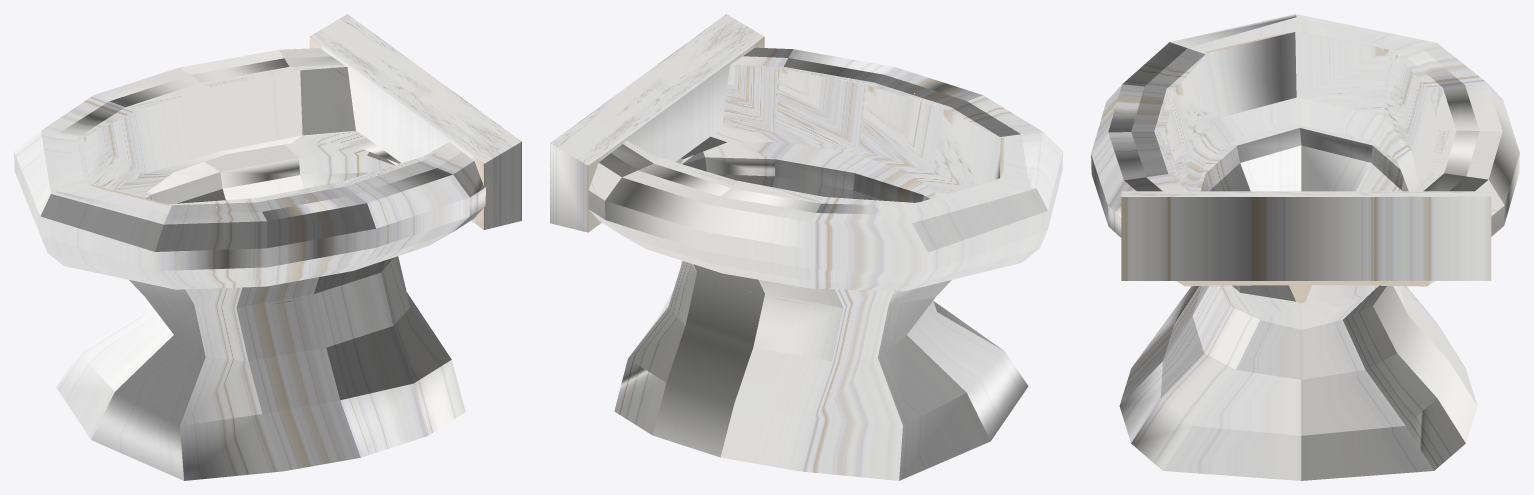
The model's file is gabinetto.fbx.
3 renders of one model, left to right at view 1: azimuth 30°, elevation 25°; view 2: azimuth 150°, elevation 25°; view 3: azimuth 270°, elevation 25°, orthographic. The views are drawn at different scales.
Visible parts, largest first — view 1: Disc_1; view 2: Disc_1; view 3: Disc_1.
Part boxes in pixels (x1,y1,x2,y2): Disc_1: (14,14,521,480); Disc_1: (550,14,1062,480); Disc_1: (1091,14,1519,480).
Size of the model in its own units: 1.62 by 1.07 by 1.42.
Materials: 2 (2 with a texture image).
